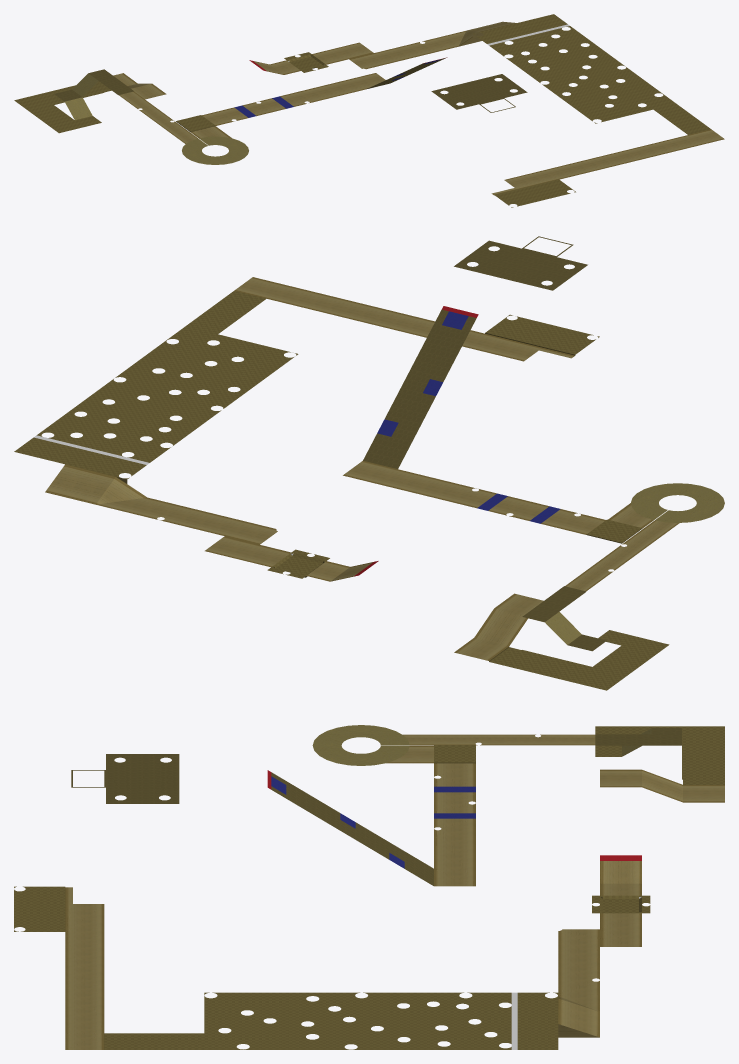
File: map_model.obj
3 renders of one model, top to bottom at view 1: azimuth 30°, elevation 25°; view 2: azimuth 150°, elevation 25°; view 3: azimuth 270°, elevation 25°, orthographic. The views are drawn at different scales.
Visible parts, largest first — view 1: MAP-SKP--Road_floorchecker, MAP-SKP--Road_sandpath, MAP-SKP--Road_floorcheckerbr, MAP-SKP--Road_sand, MAP-GRP-4885-Road_floorcheckerbr; view 2: MAP-SKP--Road_floorchecker, MAP-SKP--Road_sandpath, MAP-SKP--Road_floorcheckerbr, MAP-SKP--Road_sand, MAP-SKP--Boostpad, MAP-GRP-4885-Road_floorcheckerbr; view 3: MAP-SKP--Road_floorchecker, MAP-SKP--Road_sandpath, MAP-SKP--Road_floorcheckerbr, MAP-SKP--Road_sand, MAP-GRP-4885-Road_floorcheckerbr, MAP-SKP--Boostpad.
Boxes of the visible parts, box(x1,y1,x2,y2) form: MAP-SKP--Road_floorchecker: box(14, 14, 710, 207); MAP-SKP--Road_sandpath: box(113, 21, 724, 194); MAP-SKP--Road_floorcheckerbr: box(54, 58, 527, 112); MAP-SKP--Road_sand: box(65, 73, 248, 164); MAP-GRP-4885-Road_floorcheckerbr: box(440, 80, 518, 103); MAP-SKP--Road_floorchecker: box(14, 291, 669, 690); MAP-SKP--Road_sandpath: box(45, 277, 679, 660); MAP-SKP--Road_floorcheckerbr: box(363, 236, 606, 651); MAP-SKP--Road_sand: box(545, 483, 724, 644); MAP-SKP--Boostpad: box(377, 311, 560, 523); MAP-GRP-4885-Road_floorcheckerbr: box(466, 250, 575, 281); MAP-SKP--Road_floorchecker: box(14, 726, 724, 1049); MAP-SKP--Road_sandpath: box(65, 734, 724, 1049); MAP-SKP--Road_floorcheckerbr: box(71, 728, 681, 885); MAP-SKP--Road_sand: box(312, 725, 651, 765); MAP-GRP-4885-Road_floorcheckerbr: box(132, 754, 153, 803); MAP-SKP--Boostpad: box(271, 776, 475, 868).
Bounding box in the file's own units: 47701 × 8705 × 42256.
